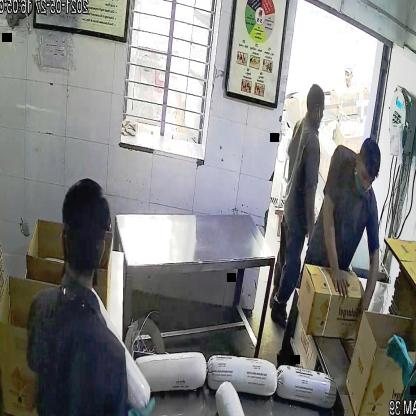no_goggles: (353, 163, 378, 189)
